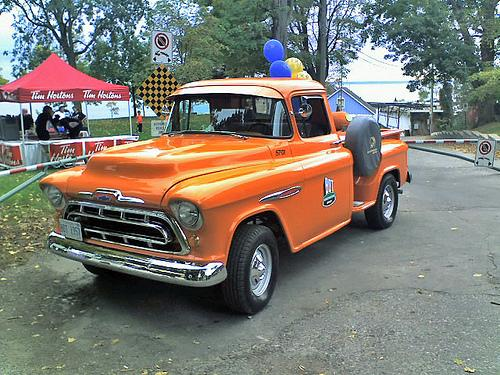truck: (39, 77, 413, 316)
